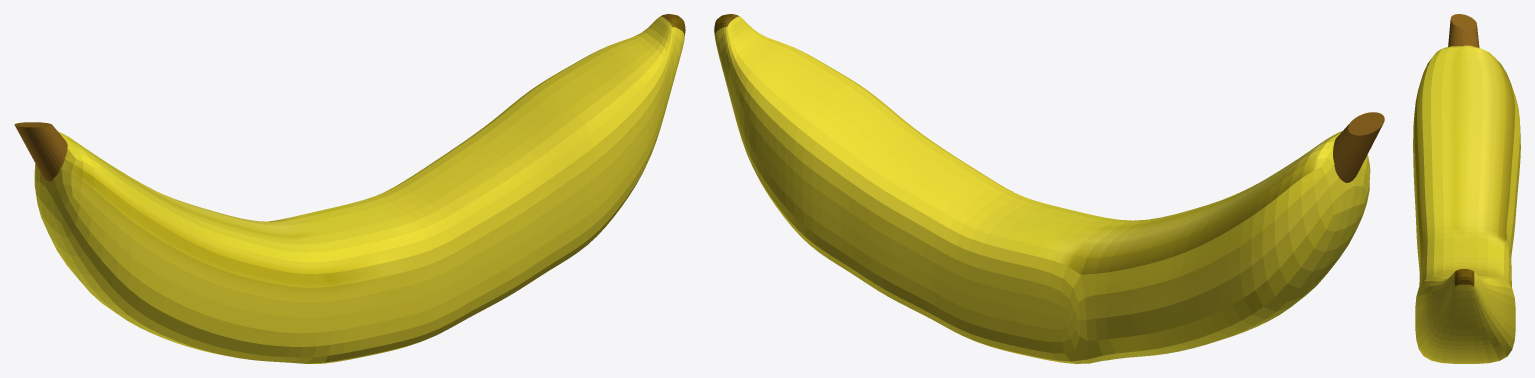
Rendered from banana.fbx.
3 renders of one model, left to right at view 1: azimuth 30°, elevation 25°; view 2: azimuth 150°, elevation 25°; view 3: azimuth 270°, elevation 25°, orthographic. The views are drawn at different scales.
Parts seen in each view (by area): view 1: Cube, Cylinder; view 2: Cube, Cylinder; view 3: Cube, Cylinder.
Boxes of the visible parts, box(x1,y1,x2,y2) form: Cube: box(34, 14, 685, 363); Cylinder: box(14, 122, 67, 181); Cube: box(714, 14, 1370, 363); Cylinder: box(1333, 112, 1384, 182); Cube: box(1413, 45, 1520, 363); Cylinder: box(1448, 14, 1479, 47).
Size of the model in its own units: 409 by 177 by 83.1.
